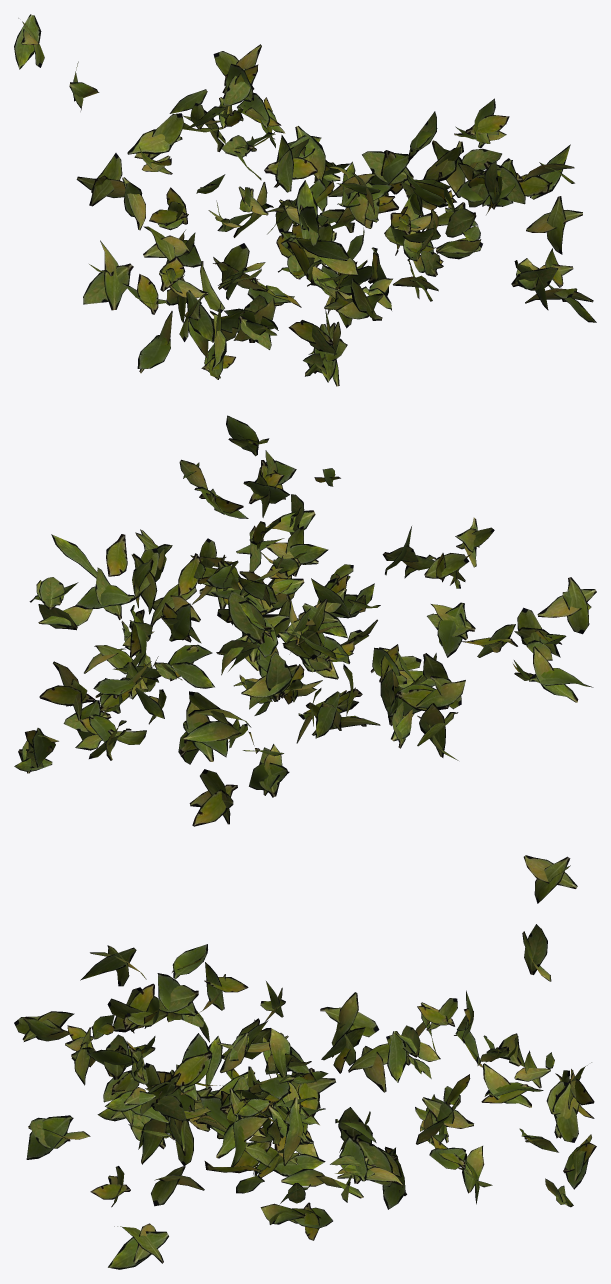
File: island_tree_02_L1_hojas.glb
The picture shows the model from 3 angles, top to bottom: view 1: azimuth 30°, elevation 25°; view 2: azimuth 150°, elevation 25°; view 3: azimuth 270°, elevation 25°; orthographic projection. The views are drawn at different scales.
Visible parts, largest first — view 1: island_tree_02_LOD0; view 2: island_tree_02_LOD0; view 3: island_tree_02_LOD0.
Boxes of the visible parts, left/top/right/bottom form: island_tree_02_LOD0: left=14, top=14, right=596, bottom=386; island_tree_02_LOD0: left=14, top=415, right=596, bottom=826; island_tree_02_LOD0: left=14, top=855, right=596, bottom=1269.
Size of the model in its own units: 3.87 by 1.88 by 3.94.
Materials: 1 (1 with a texture image).
